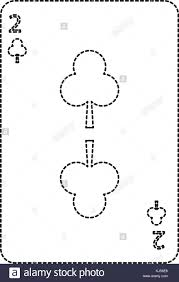two of clubs: (2, 2, 176, 262)
